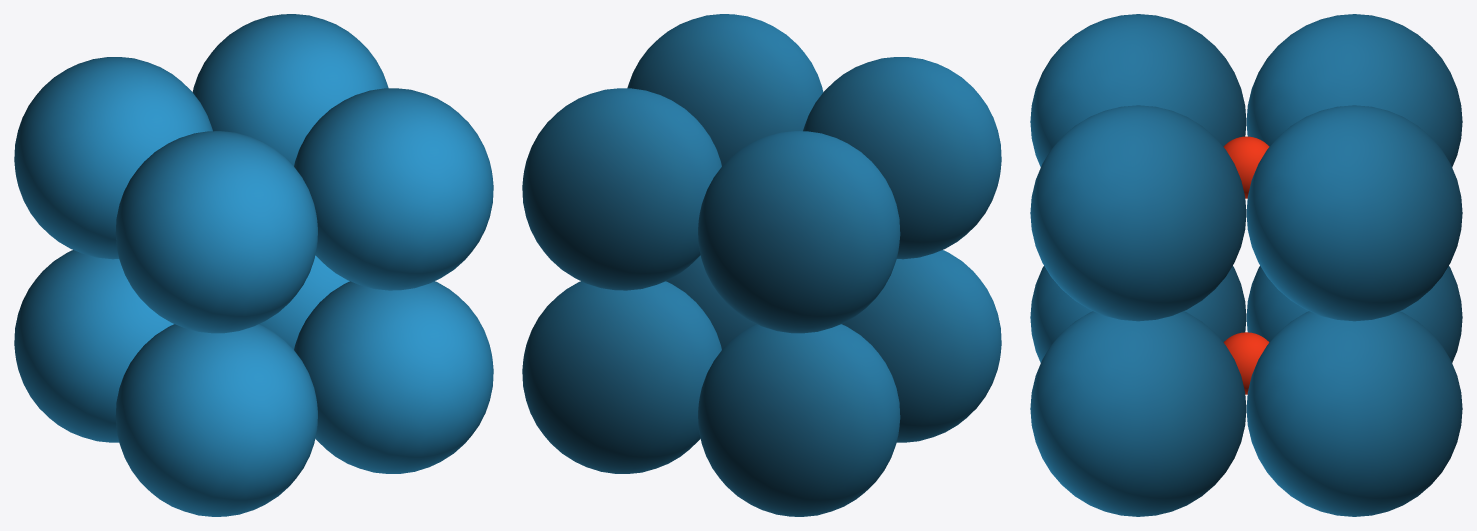
The model's file is solid_state_qn_005.glb.
The picture shows the model from 3 angles, left to right: view 1: azimuth 30°, elevation 25°; view 2: azimuth 150°, elevation 25°; view 3: azimuth 270°, elevation 25°; orthographic projection. The views are drawn at different scales.
Parts seen in each view (by area): view 1: Icosphere.029, Icosphere.033, Icosphere.028, Icosphere.032, Icosphere.026, Icosphere.030, Icosphere.027, Icosphere.031; view 2: Icosphere.026, Icosphere.030, Icosphere.027, Icosphere.031, Icosphere.029, Icosphere.033, Icosphere.028, Icosphere.032; view 3: Icosphere.028, Icosphere.027, Icosphere.031, Icosphere.032, Icosphere.026, Icosphere.029, Icosphere.030, Icosphere.033, Icosphere.034, Icosphere.035.
Boxes of the visible parts, x1=… form: Icosphere.029: x1=115, y1=131, x2=317, y2=333; Icosphere.033: x1=115, y1=324, x2=317, y2=516; Icosphere.028: x1=294, y1=88, x2=493, y2=290; Icosphere.032: x1=294, y1=281, x2=493, y2=473; Icosphere.026: x1=14, y1=57, x2=212, y2=259; Icosphere.030: x1=14, y1=250, x2=173, y2=442; Icosphere.027: x1=192, y1=14, x2=388, y2=165; Icosphere.031: x1=260, y1=255, x2=349, y2=349; Icosphere.026: x1=698, y1=131, x2=900, y2=333; Icosphere.030: x1=698, y1=324, x2=900, y2=516; Icosphere.027: x1=522, y1=88, x2=721, y2=290; Icosphere.031: x1=522, y1=281, x2=721, y2=473; Icosphere.029: x1=803, y1=57, x2=1001, y2=259; Icosphere.033: x1=842, y1=250, x2=1001, y2=442; Icosphere.028: x1=627, y1=14, x2=823, y2=165; Icosphere.032: x1=666, y1=255, x2=755, y2=349; Icosphere.028: x1=1030, y1=105, x2=1246, y2=321; Icosphere.027: x1=1246, y1=105, x2=1462, y2=321; Icosphere.031: x1=1246, y1=311, x2=1462, y2=516; Icosphere.032: x1=1030, y1=311, x2=1246, y2=516; Icosphere.026: x1=1246, y1=14, x2=1462, y2=167; Icosphere.029: x1=1030, y1=14, x2=1246, y2=167; Icosphere.030: x1=1246, y1=266, x2=1462, y2=362; Icosphere.033: x1=1030, y1=266, x2=1246, y2=362; Icosphere.034: x1=1223, y1=136, x2=1269, y2=198; Icosphere.035: x1=1223, y1=332, x2=1269, y2=394.
Size of the model in its own units: 4 by 4 by 4.
Materials: 1 (1 with a texture image).
